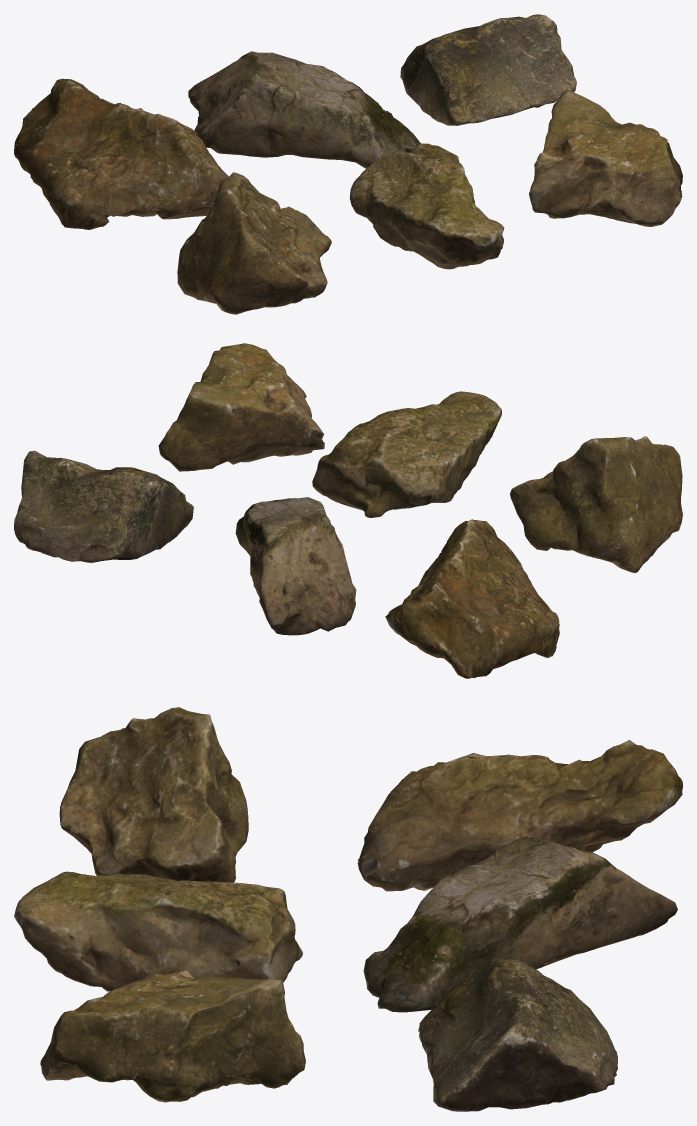
The model's file is rock_moss_set_01.glb.
3 renders of one model, top to bottom at view 1: azimuth 30°, elevation 25°; view 2: azimuth 150°, elevation 25°; view 3: azimuth 270°, elevation 25°, orthographic. The views are drawn at different scales.
Parts seen in each view (by area): view 1: rock_moss_set_01_rock01, rock_moss_set_01_rock02, rock_moss_set_01_rock06, rock_moss_set_01_rock04, rock_moss_set_01_rock03, rock_moss_set_01_rock05; view 2: rock_moss_set_01_rock04, rock_moss_set_01_rock01, rock_moss_set_01_rock05, rock_moss_set_01_rock03, rock_moss_set_01_rock06, rock_moss_set_01_rock02; view 3: rock_moss_set_01_rock01, rock_moss_set_01_rock02, rock_moss_set_01_rock05, rock_moss_set_01_rock04, rock_moss_set_01_rock06, rock_moss_set_01_rock03.
Part boxes in pixels (box(x1,y1,x2,y2)): rock_moss_set_01_rock01: box(14, 78, 228, 229); rock_moss_set_01_rock02: box(188, 51, 420, 168); rock_moss_set_01_rock06: box(529, 89, 682, 226); rock_moss_set_01_rock04: box(177, 172, 331, 314); rock_moss_set_01_rock03: box(400, 14, 576, 125); rock_moss_set_01_rock05: box(349, 143, 504, 269); rock_moss_set_01_rock04: box(510, 436, 682, 573); rock_moss_set_01_rock01: box(385, 519, 559, 678); rock_moss_set_01_rock05: box(312, 391, 501, 517); rock_moss_set_01_rock03: box(14, 450, 193, 563); rock_moss_set_01_rock06: box(158, 343, 324, 471); rock_moss_set_01_rock02: box(235, 497, 356, 635); rock_moss_set_01_rock01: box(357, 740, 682, 891); rock_moss_set_01_rock02: box(363, 836, 677, 1012); rock_moss_set_01_rock05: box(14, 871, 302, 991); rock_moss_set_01_rock04: box(59, 707, 248, 882); rock_moss_set_01_rock06: box(40, 970, 305, 1102); rock_moss_set_01_rock03: box(418, 956, 617, 1111).
Bounding box in the file's own units: 8 × 1.77 × 6.95.
Materials: 1 (1 with a texture image).
